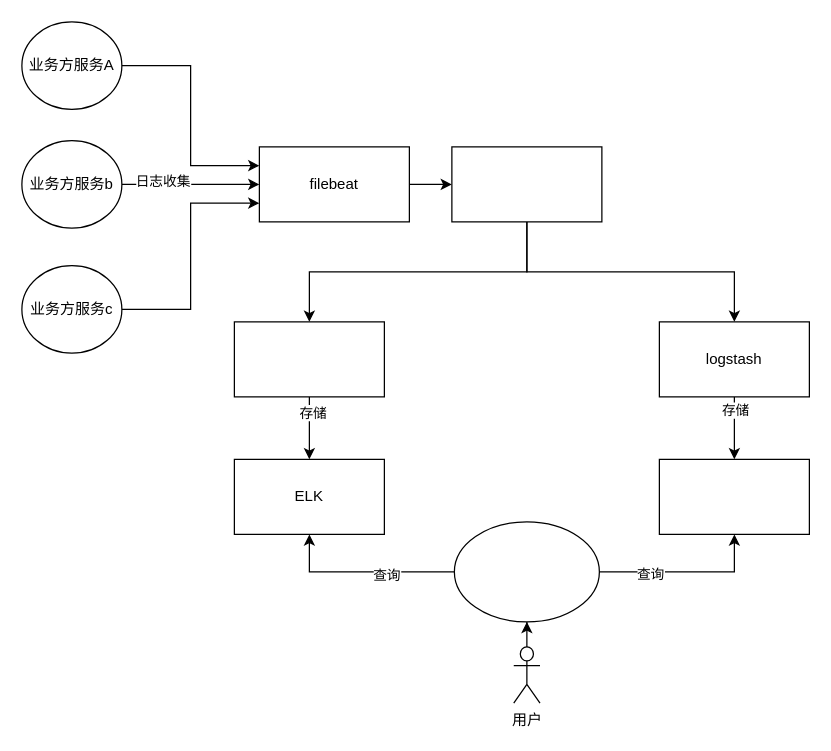
Image size: 831x751. Some labels were removed from this diagram. The shapes that lost their labels are listed below. From the top down, each one's centre as x and y in pixels, then its label:
point (526, 184): kafka
point (308, 359): vector
point (733, 496): CK
point (526, 571): java
